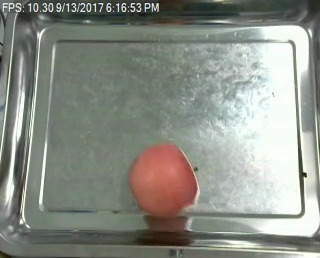Apple: (128, 141, 199, 219)
